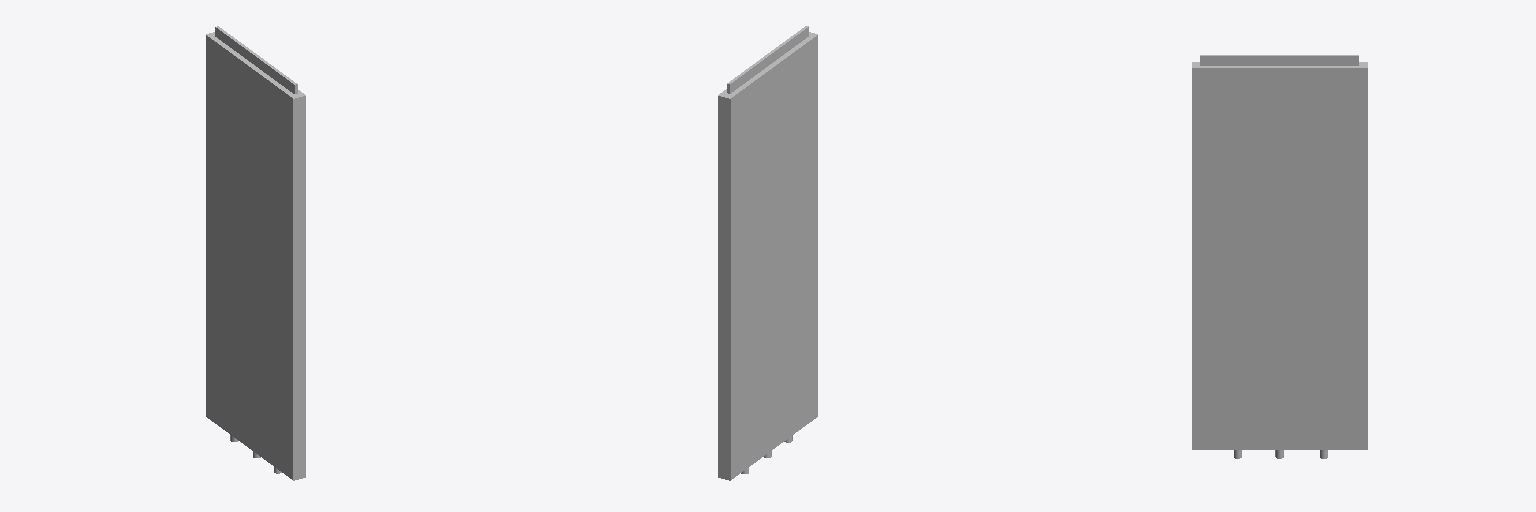
Rendered from rygg_mid.obj.
3 renders of one model, left to right at view 1: azimuth 30°, elevation 25°; view 2: azimuth 150°, elevation 25°; view 3: azimuth 270°, elevation 25°, orthographic.
Visible parts, largest first — view 1: rygg_mid; view 2: rygg_mid; view 3: rygg_mid.
Part boxes in pixels (left/top/right/bottom): rygg_mid: left=206, top=26, right=305, bottom=480; rygg_mid: left=718, top=26, right=817, bottom=480; rygg_mid: left=1192, top=55, right=1367, bottom=458.
Bounding box in the file's own units: 7 × 206 × 82.